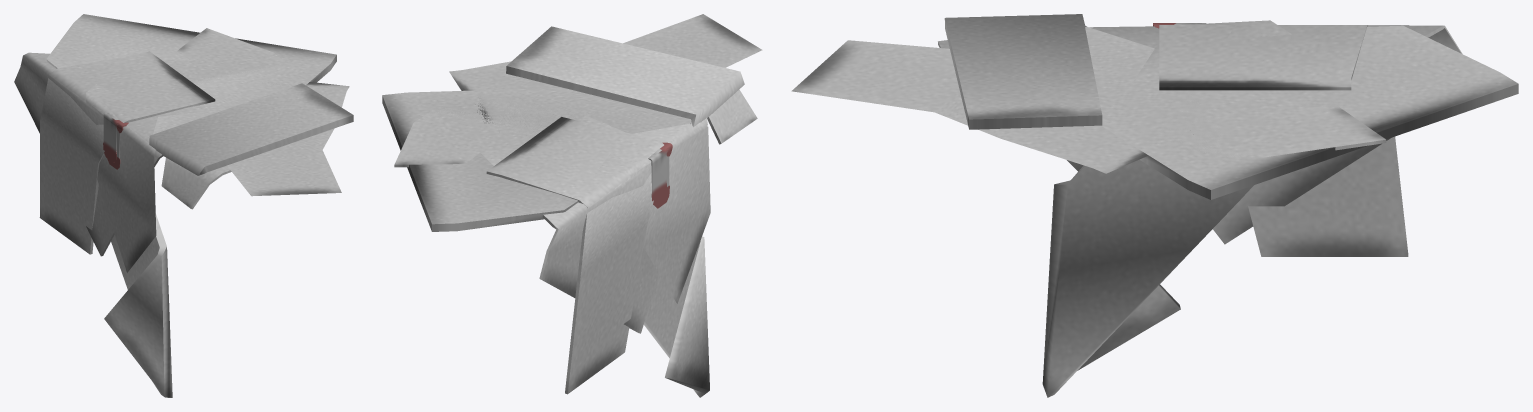
File: cloths_ecke.fbx
3 views of the same model, side by side, from view 1: azimuth 30°, elevation 25°; view 2: azimuth 150°, elevation 25°; view 3: azimuth 270°, elevation 25° (orthographic). The views are drawn at different scales.
Parts seen in each view (by area): view 1: Plane.011, Plane.012, Plane.016, Plane.013, Plane.014, Plane.008; view 2: Plane.011, Plane.012, Plane.016, Plane.013, Plane.014, Plane.008; view 3: Plane.011, Plane.012, Plane.013, Plane.016.
Part boxes in pixels (x1,y1,x2,y2): Plane.011: [46, 14, 353, 397]; Plane.012: [39, 51, 215, 254]; Plane.016: [86, 82, 349, 272]; Plane.013: [14, 28, 286, 256]; Plane.014: [103, 112, 118, 162]; Plane.008: [107, 114, 128, 169]; Plane.011: [382, 26, 744, 397]; Plane.012: [486, 117, 663, 394]; Plane.016: [449, 14, 762, 303]; Plane.013: [394, 89, 757, 333]; Plane.014: [648, 148, 668, 205]; Plane.008: [651, 142, 672, 208]; Plane.011: [944, 14, 1518, 397]; Plane.012: [1159, 25, 1408, 256]; Plane.013: [938, 25, 1462, 244]; Plane.016: [791, 20, 1291, 173].
Bounding box in the file's own units: 672 × 700 × 1186.
